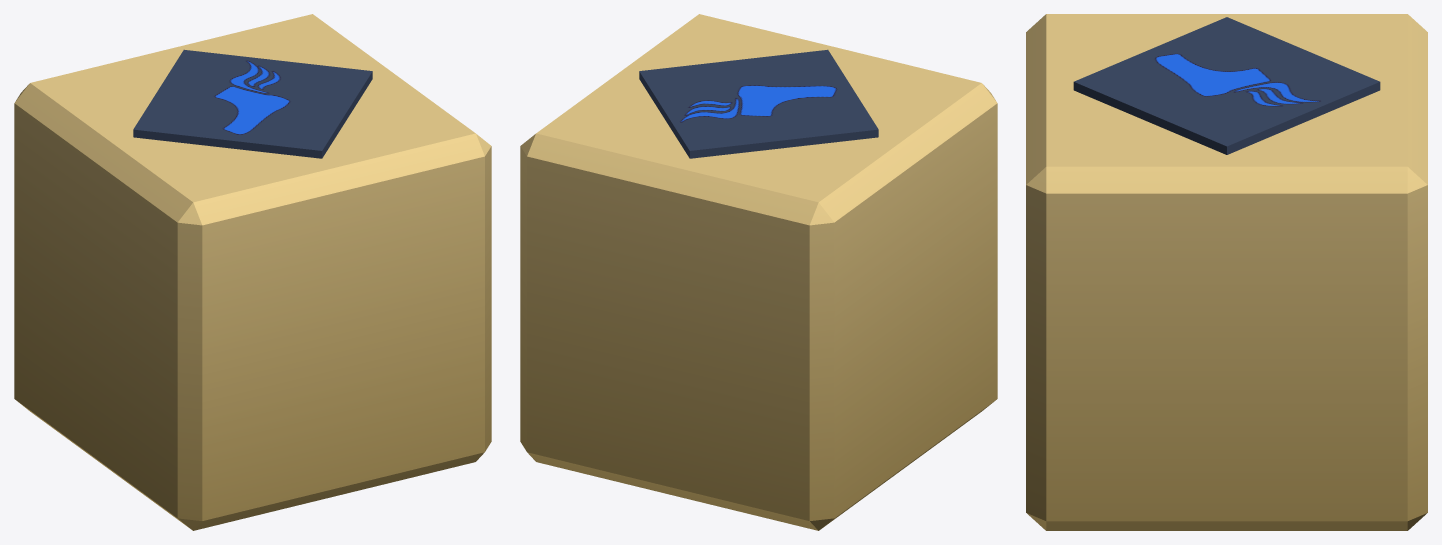
Rendered from Tile_Card_Movement_White.fbx.
3 renders of one model, left to right at view 1: azimuth 30°, elevation 25°; view 2: azimuth 150°, elevation 25°; view 3: azimuth 270°, elevation 25°, orthographic. The views are drawn at different scales.
Visible parts, largest first — view 1: Tile Putih Plate Speed; view 2: Tile Putih Plate Speed; view 3: Tile Putih Plate Speed.
Boxes of the visible parts, x1=… form: Tile Putih Plate Speed: x1=14, y1=14, x2=491, y2=530; Tile Putih Plate Speed: x1=520, y1=14, x2=997, y2=530; Tile Putih Plate Speed: x1=1026, y1=14, x2=1427, y2=530.
Size of the model in its own units: 1 by 1.02 by 1.
Materials: 1 (1 with a texture image).
